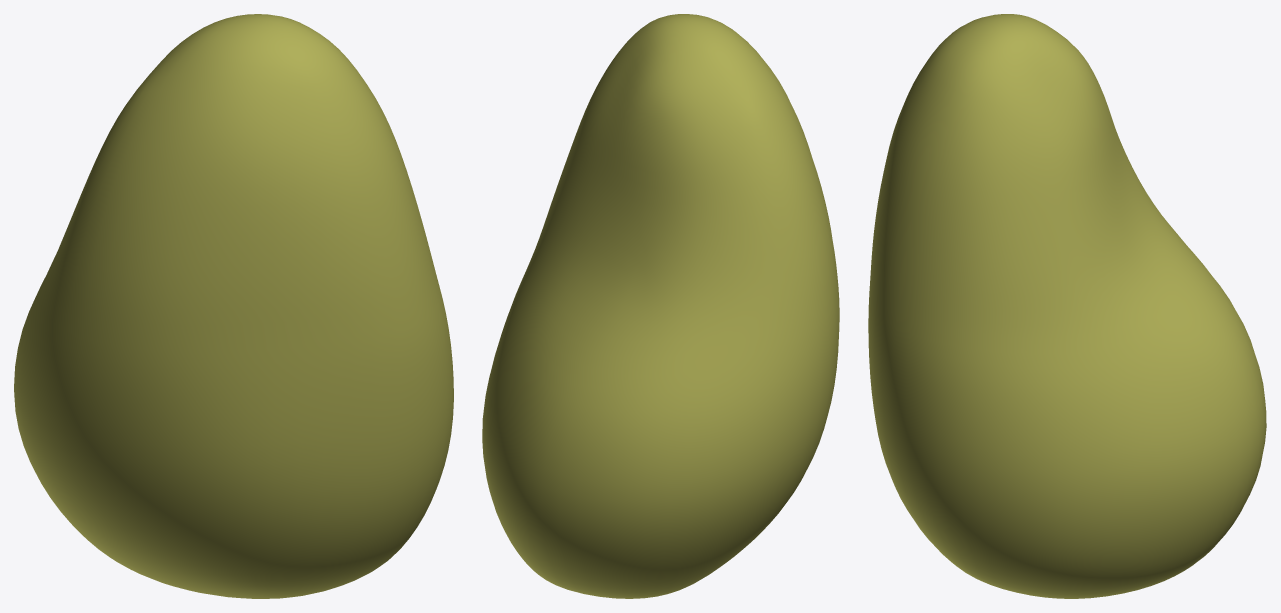
The model's file is potato_lod1_3.fbx.
3 renders of one model, left to right at view 1: azimuth 30°, elevation 25°; view 2: azimuth 150°, elevation 25°; view 3: azimuth 270°, elevation 25°, orthographic. The views are drawn at different scales.
Parts seen in each view (by area): view 1: polySurface6; view 2: polySurface6; view 3: polySurface6.
Boxes of the visible parts, box(x1,y1,x2,y2) form: polySurface6: box(14, 14, 453, 598); polySurface6: box(482, 14, 839, 598); polySurface6: box(868, 14, 1266, 598).
Bounding box in the file's own units: 6.33 × 9.99 × 6.62.
